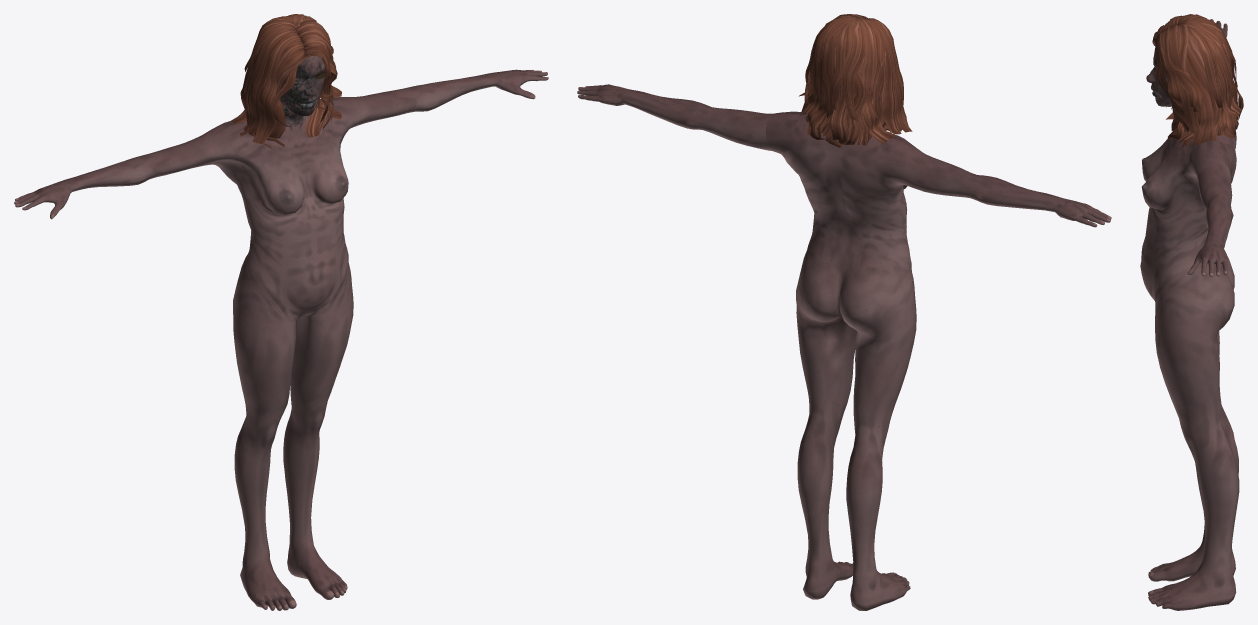
File: peluca5.obj
3 views of the same model, side by side, from view 1: azimuth 30°, elevation 25°; view 2: azimuth 150°, elevation 25°; view 3: azimuth 270°, elevation 25° (orthographic).
Parts seen in each view (by area): view 1: Body, Hair; view 2: Body, Hair; view 3: Body, Hair.
Part boxes in pixels (x1,y1,x2,y2): Body: (14, 56, 548, 610); Hair: (231, 14, 341, 149); Body: (577, 84, 1111, 610); Hair: (799, 14, 912, 147); Body: (1140, 19, 1239, 610); Hair: (1152, 14, 1243, 148).
Size of the model in its own units: 174 by 179 by 29.33.
2 materials, 2 textured.
